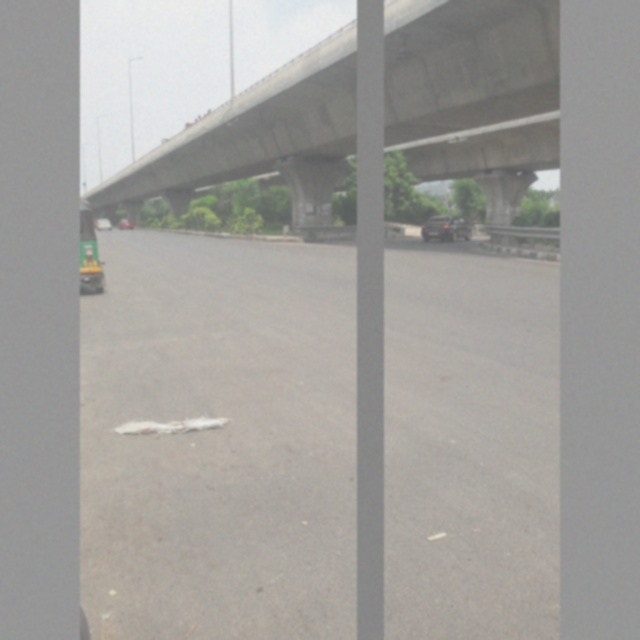Pedestrian_Crossing: (369, 181, 385, 198)
